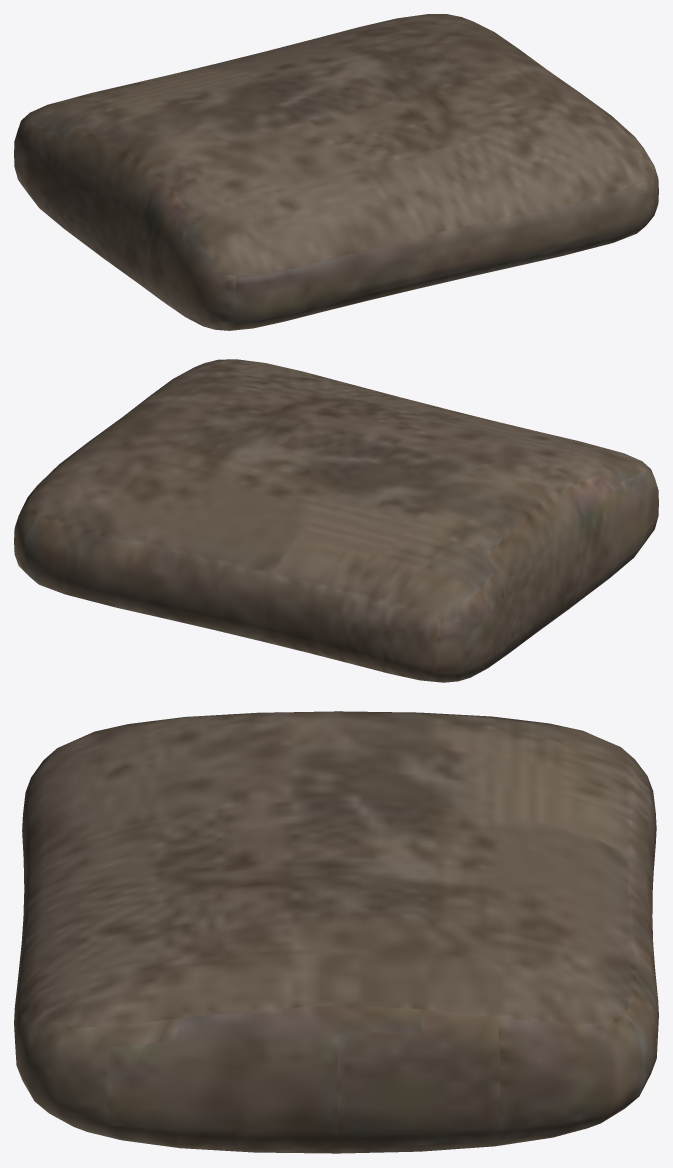
Rendered from SM_bag.glb.
The picture shows the model from 3 angles, top to bottom: view 1: azimuth 30°, elevation 25°; view 2: azimuth 150°, elevation 25°; view 3: azimuth 270°, elevation 25°; orthographic projection. The views are drawn at different scales.
Visible parts, largest first — view 1: SM_bag; view 2: SM_bag; view 3: SM_bag.
Part boxes in pixels (left/top/right/bottom): SM_bag: left=14, top=14, right=658, bottom=330; SM_bag: left=14, top=359, right=658, bottom=682; SM_bag: left=14, top=711, right=658, bottom=1153.
Bounding box in the file's own units: 0.8067 × 0.2531 × 0.7115.
1 material, 1 textured.
